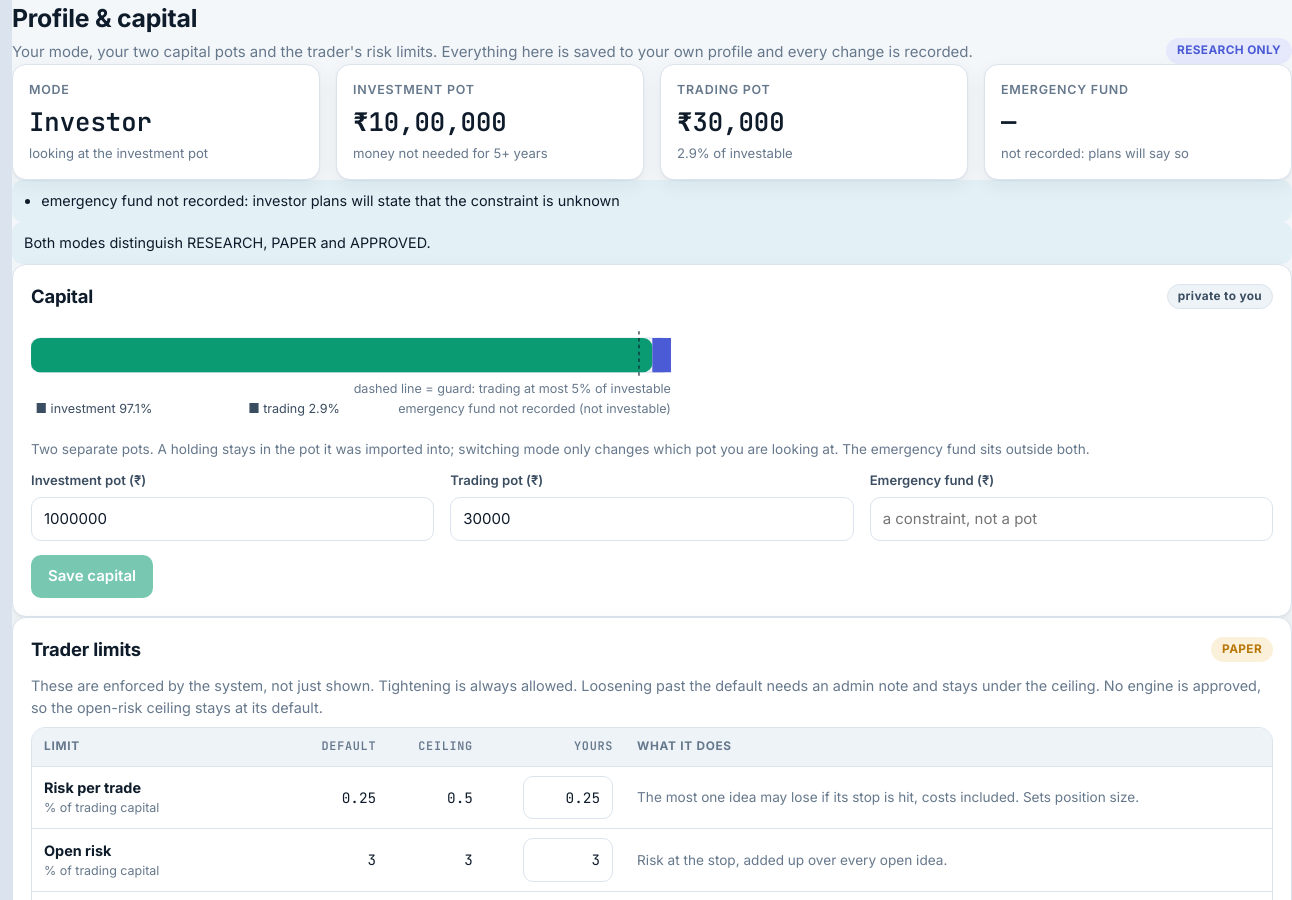
Test: Profile page › asks for an approval note only when a limit is loosened, and blocks values above the ceiling
Replace the text in the field named "Risk per trade" with "0.5" at (568, 798), box [523, 776, 613, 819]
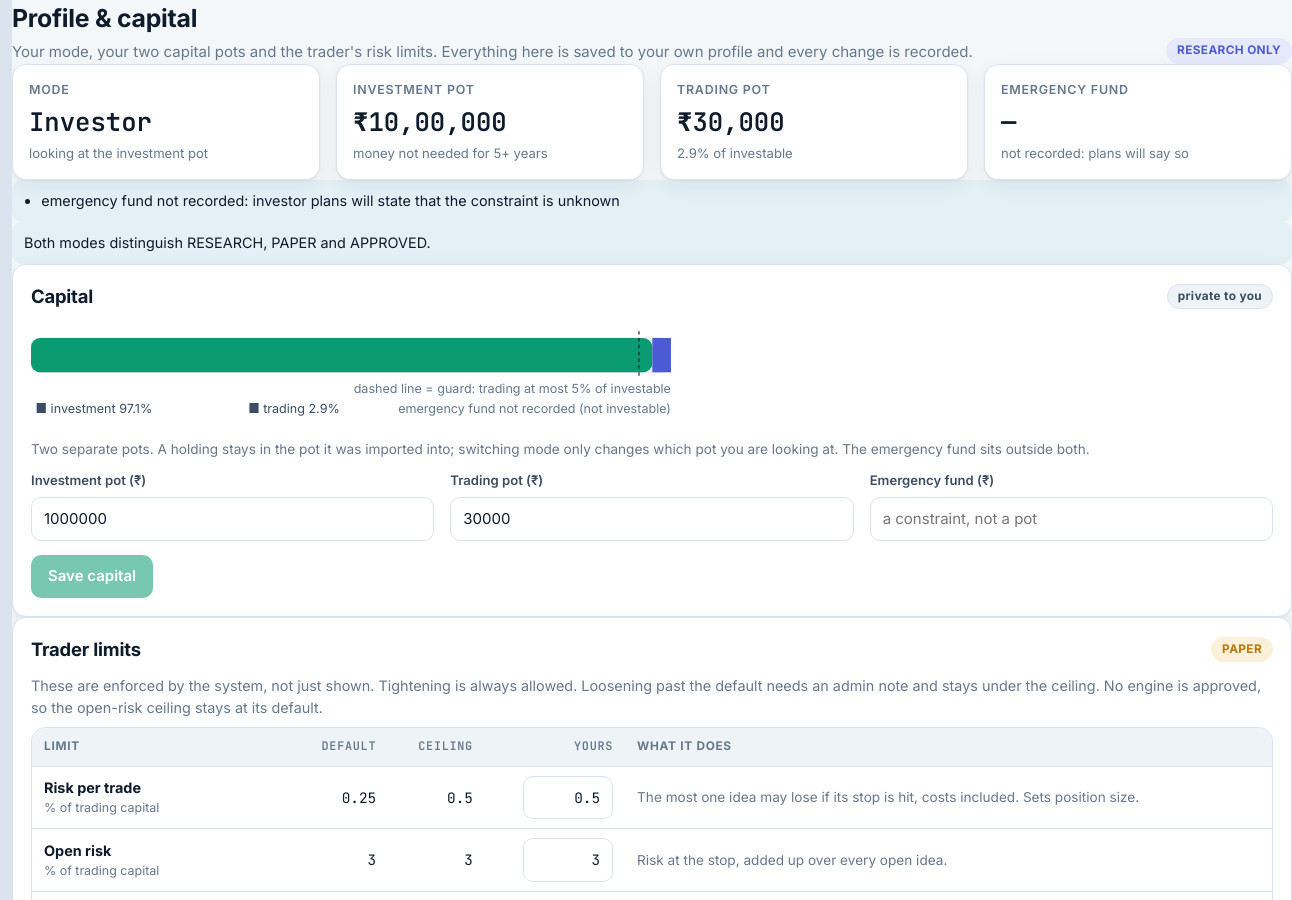
Replace the text in the field named "Risk per trade" with "1" at (568, 798), box [523, 776, 613, 819]
(page scrolled)
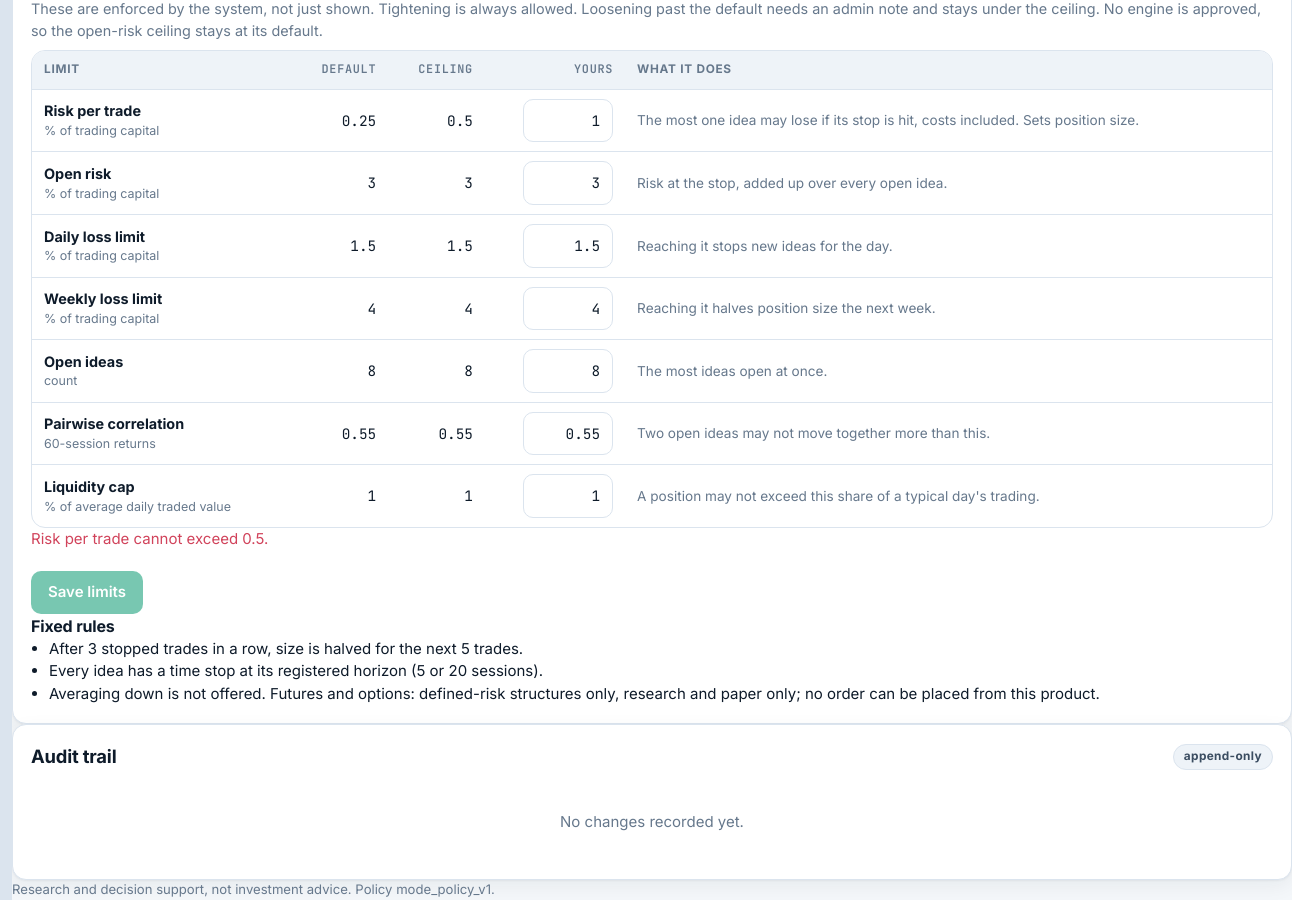
Check: the text "Risk per trade cannot exceed 0.5." is shown, box [31, 529, 268, 548]
Check: the button "Save limits" is disabled, box [31, 571, 143, 614]
